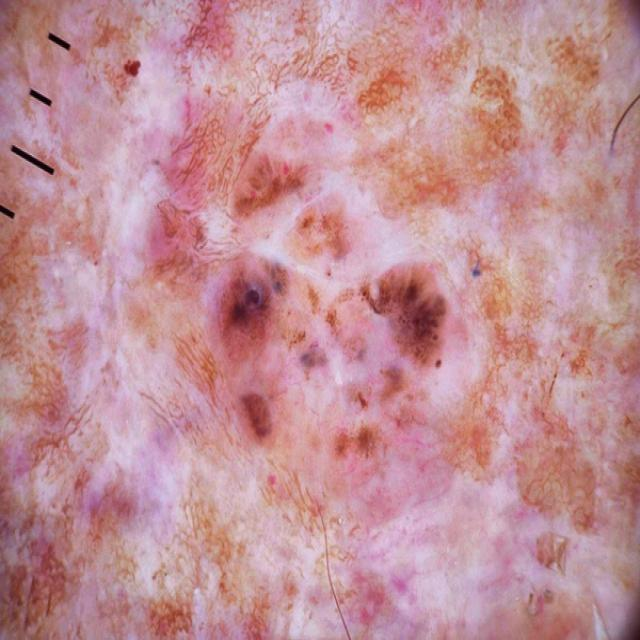Basal-Cell-Carcinoma-BCC-: (41, 44, 565, 548)
